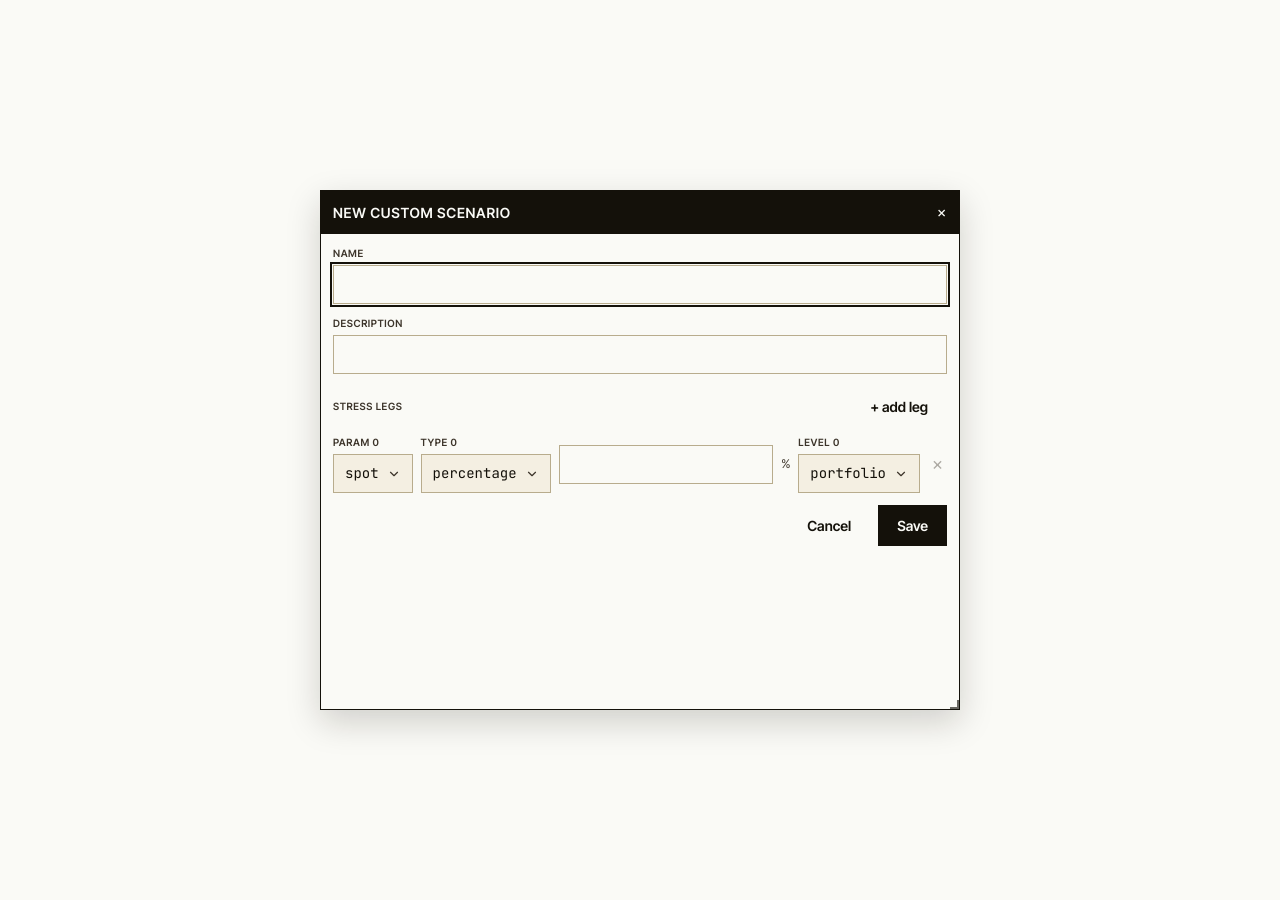
Scenario: requires a target when level is underlying
Type "U" into the field named "scenario name".
click(640, 284); type("U")  # box [333,265,947,304]
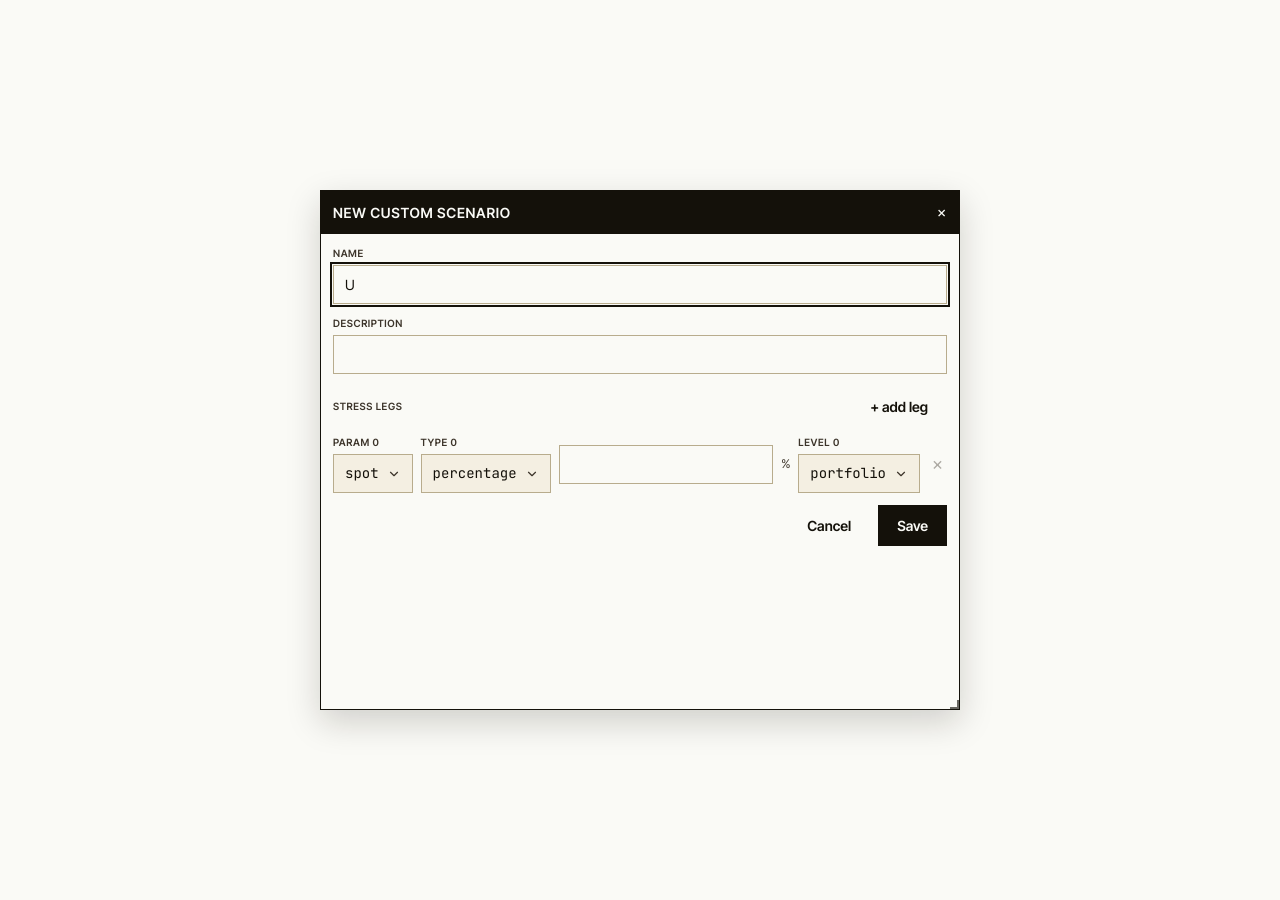
Type "5" into the number field named "value 0".
click(666, 464); type("5")  # box [559,444,773,484]
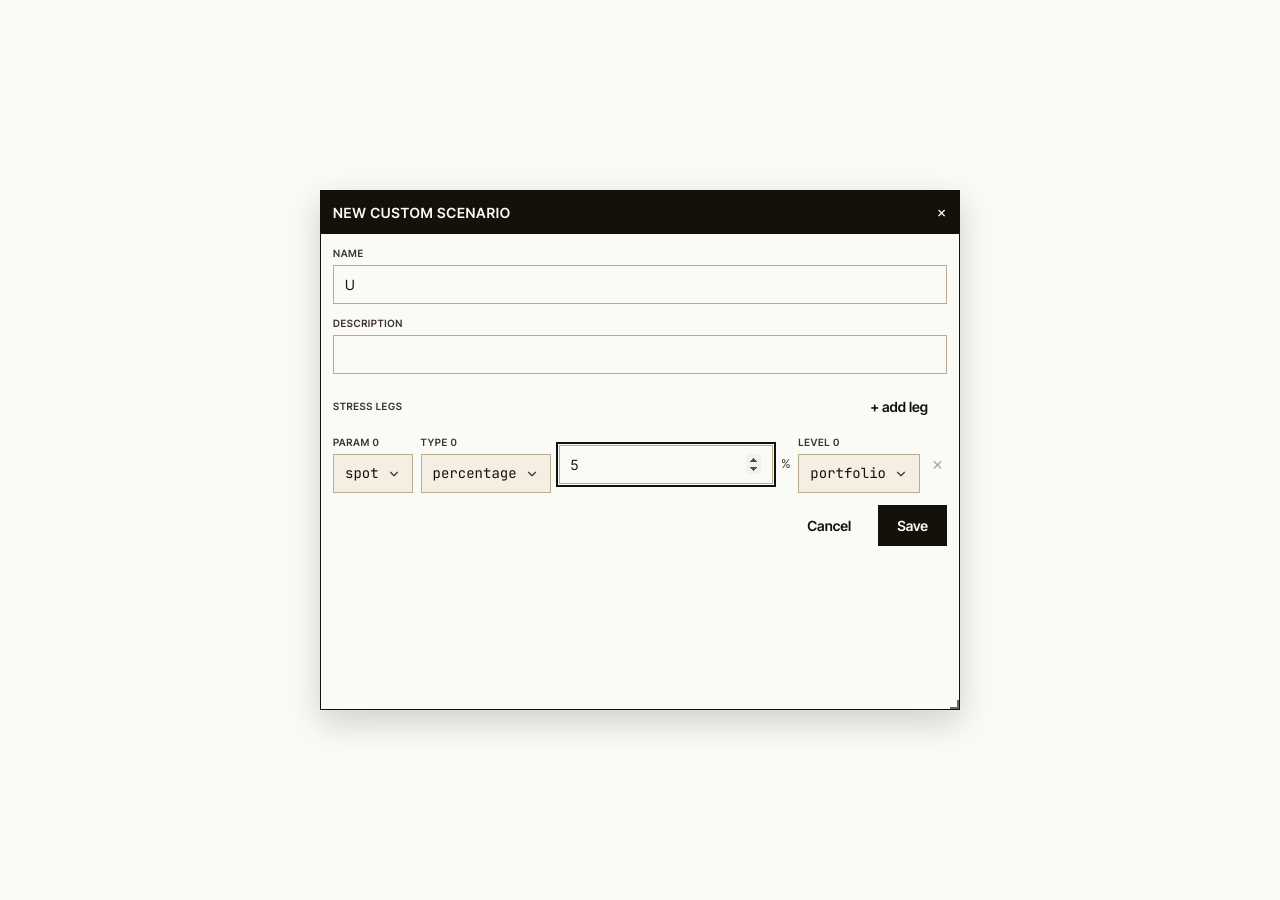
Select "underlying" in the dropdown labelled "level 0" at [809, 443], box [797,434,821,452]
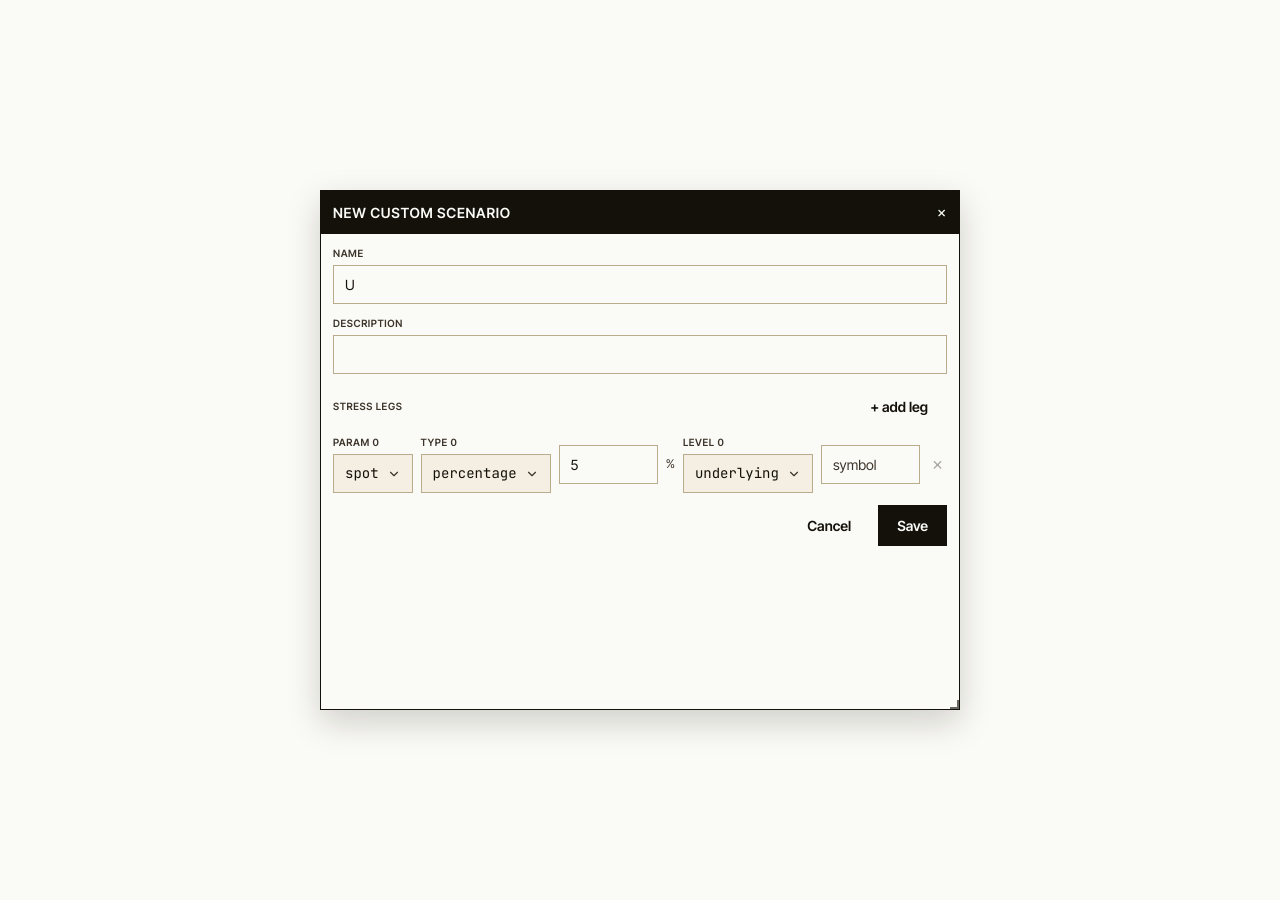
Click the button "Save".
click(913, 526)  # box [878,505,947,546]
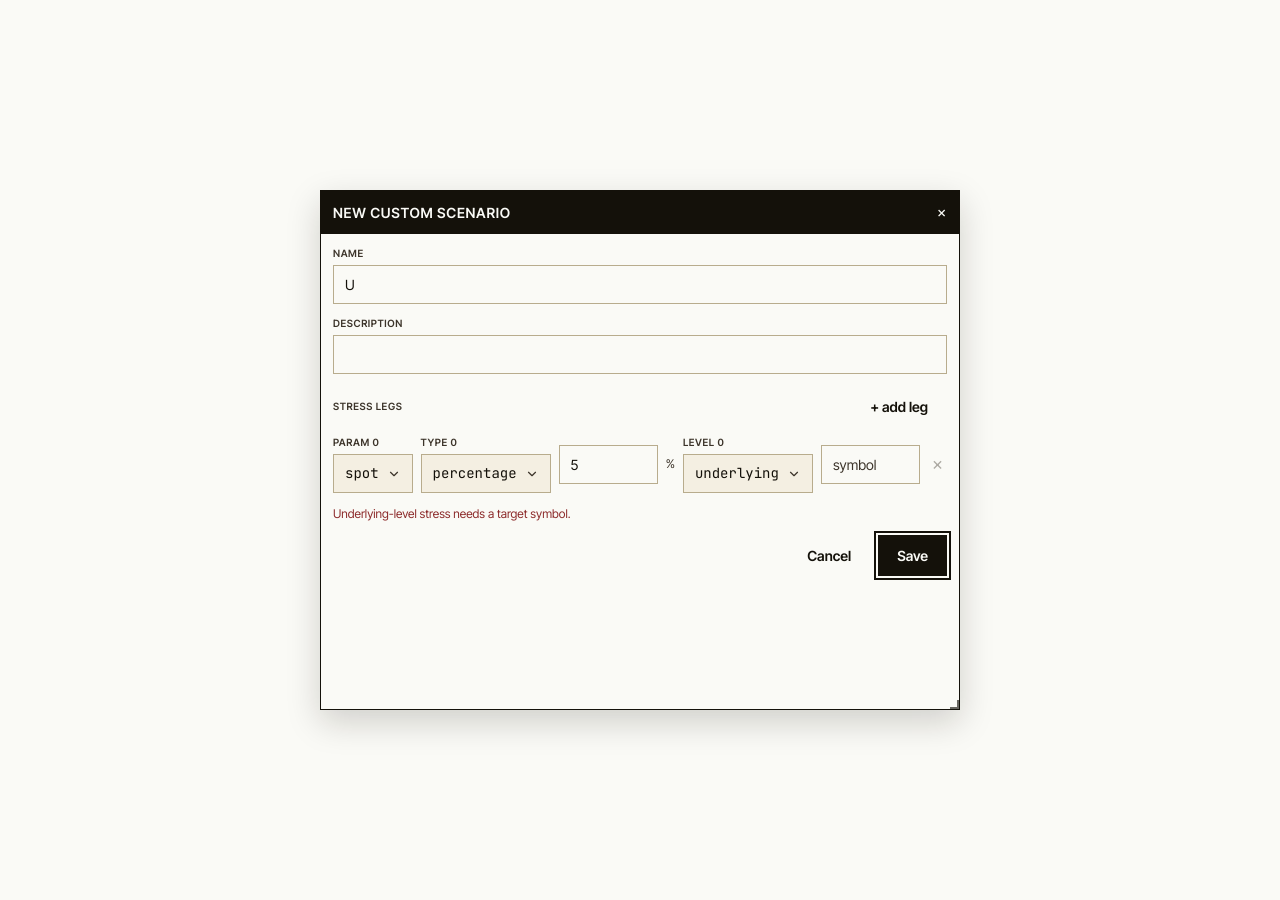
Check: the message shows "target symbol", box [333,506,570,521]
